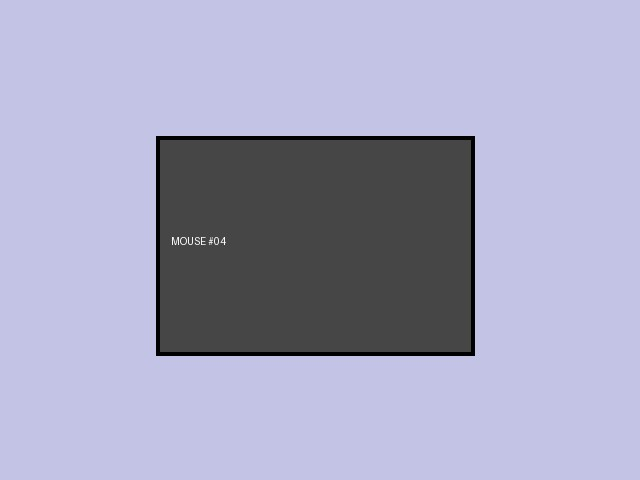mouse: (156, 136, 474, 355)
